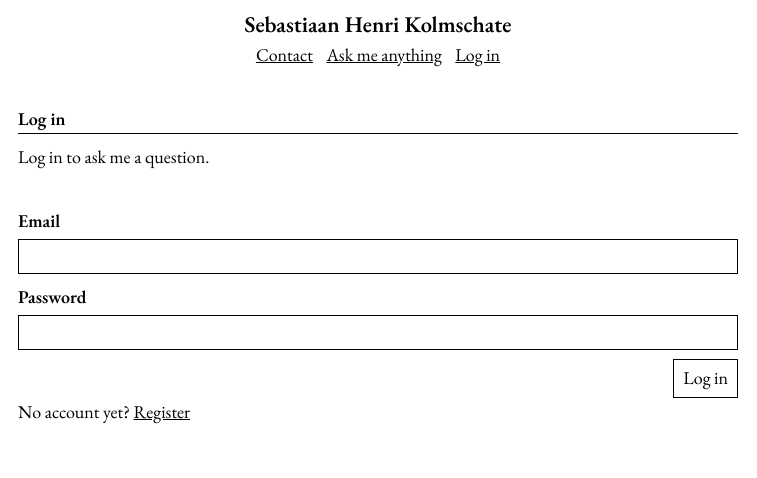
login form › shows one message for a wrong email or password
Type "grace@example.com" into the field with id "email" at (378, 257), box top-left (18, 239), bottom-right (738, 274)
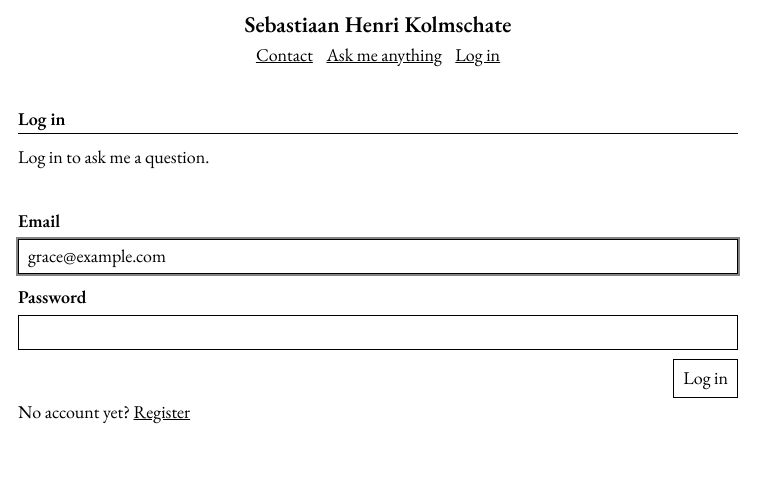
Type "a-long-enough-password" into the password field labelled "Password" at (378, 333), box top-left (18, 315), bottom-right (738, 350)
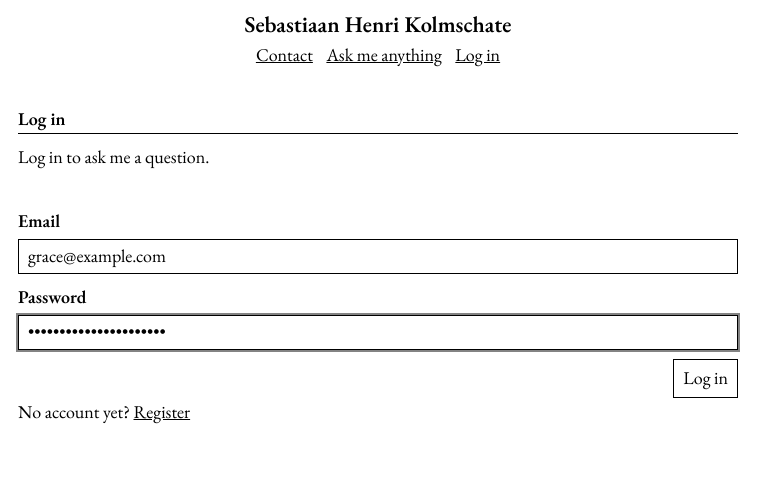
Submit the form, box top-left (18, 207), bottom-right (738, 398)
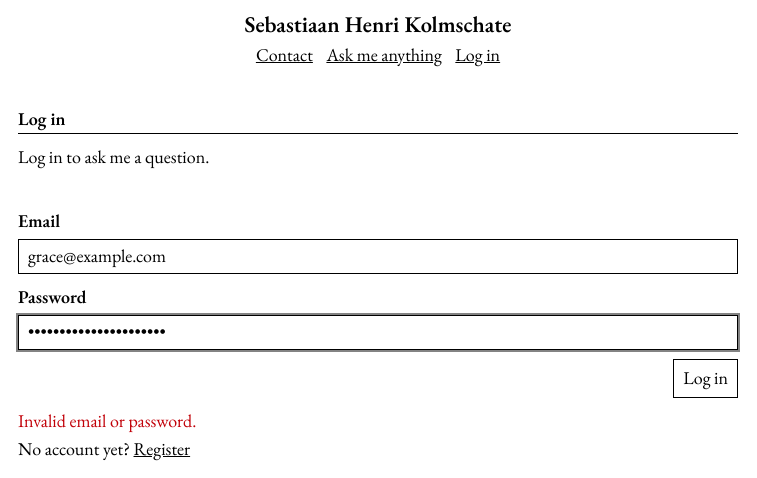
expect the message "Invalid email or password." is shown: met, box top-left (18, 408), bottom-right (196, 432)
